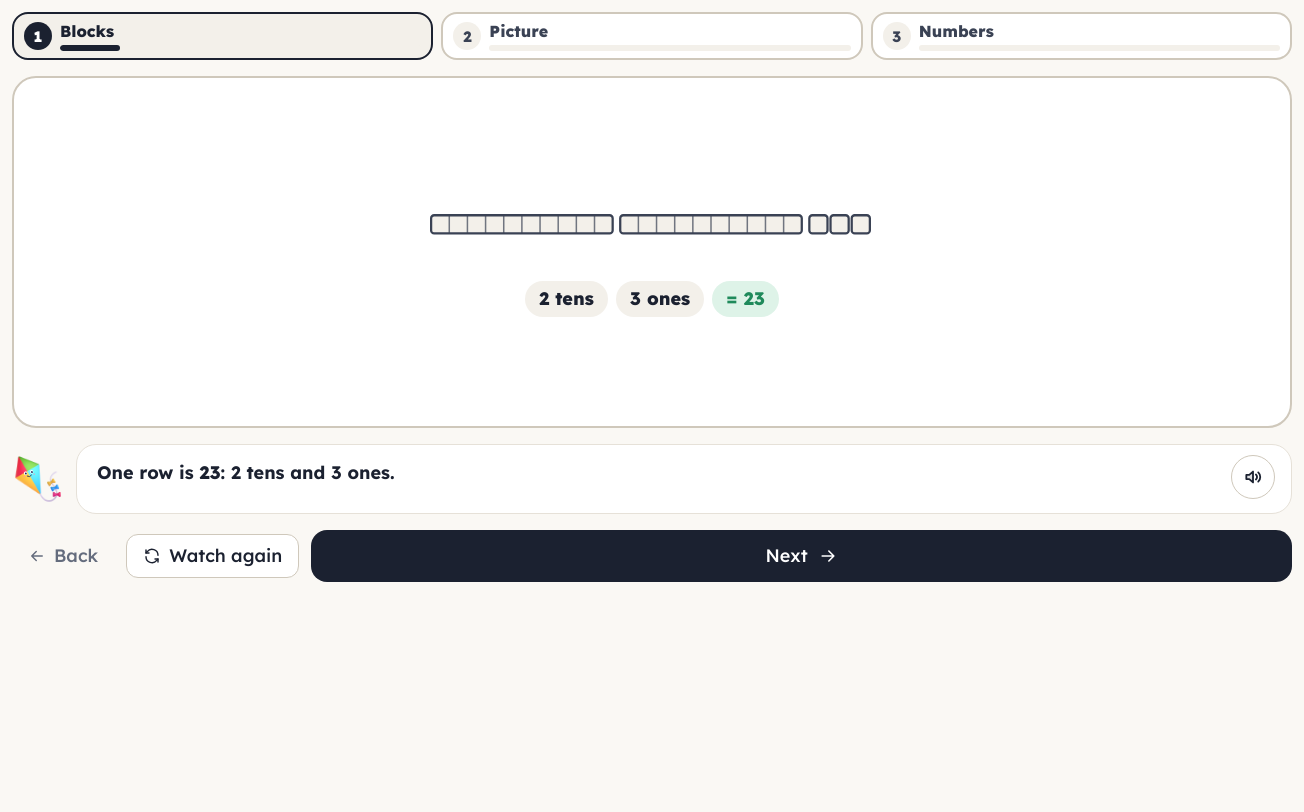
Scenario: long multiplication stage (ANIM-001 v2) › finishes the step with the last button and moves with the arrow keys
Step 1. Click the button "3 Numbers" → point(956, 31), box [871,12,1292,60]
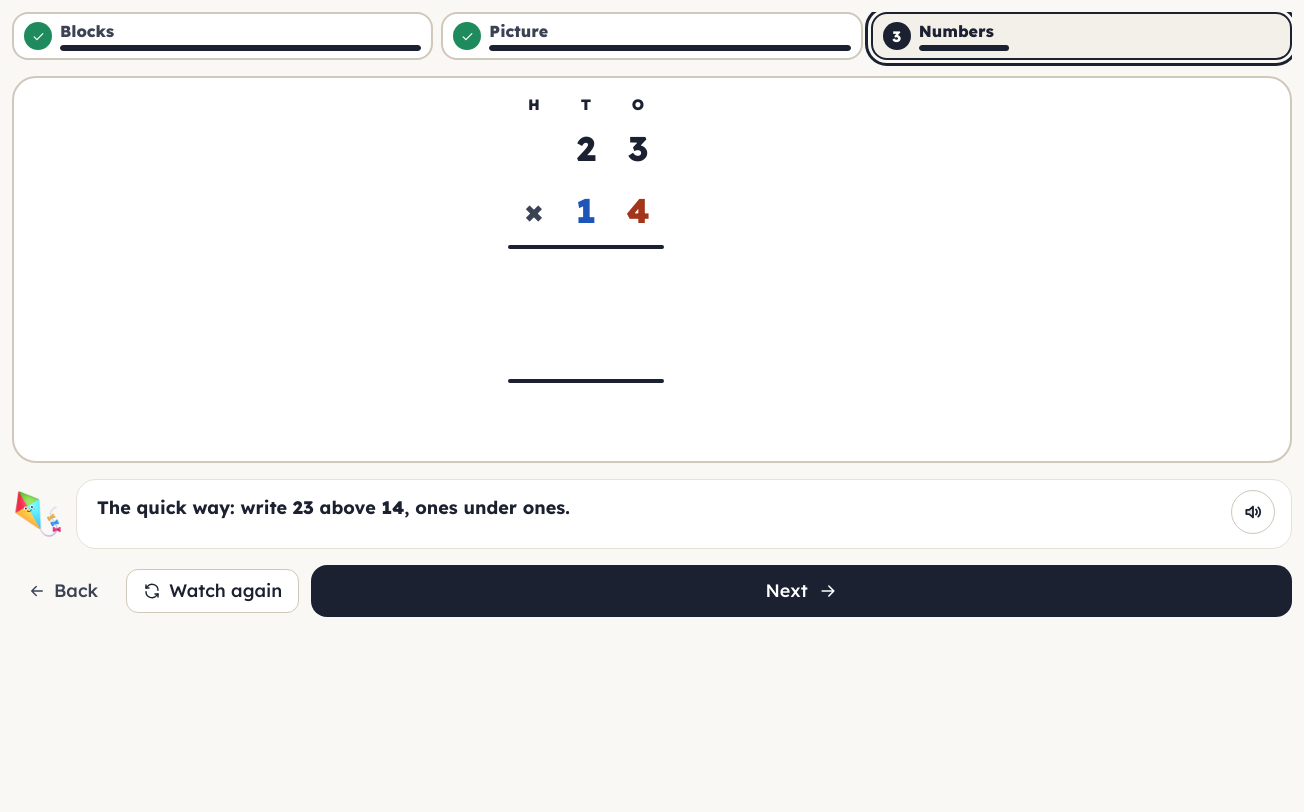
Step 2. Press Arrowright
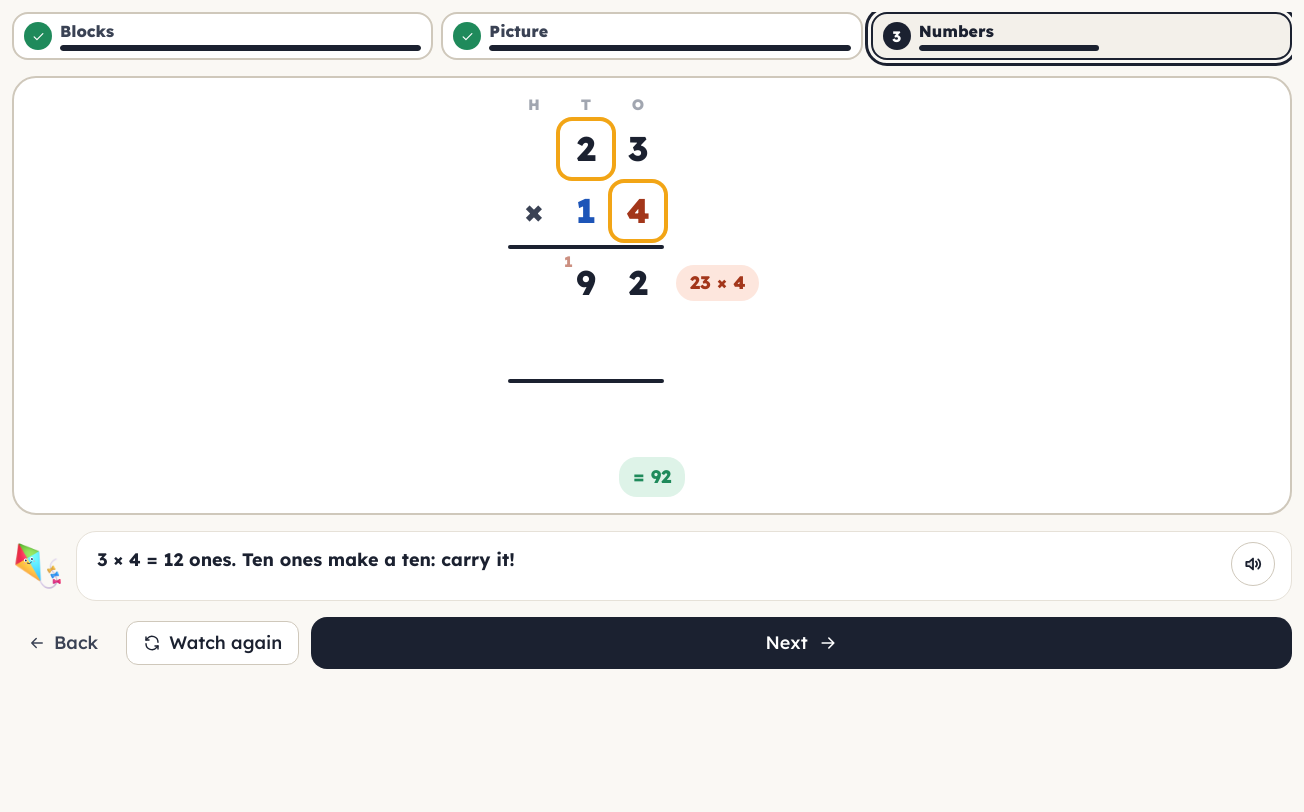
Now the text "3 × 4 = 12 ones. Ten ones make a ten: carry it!" is shown, box [97,548,515,571]
Step 3. Press Arrowright
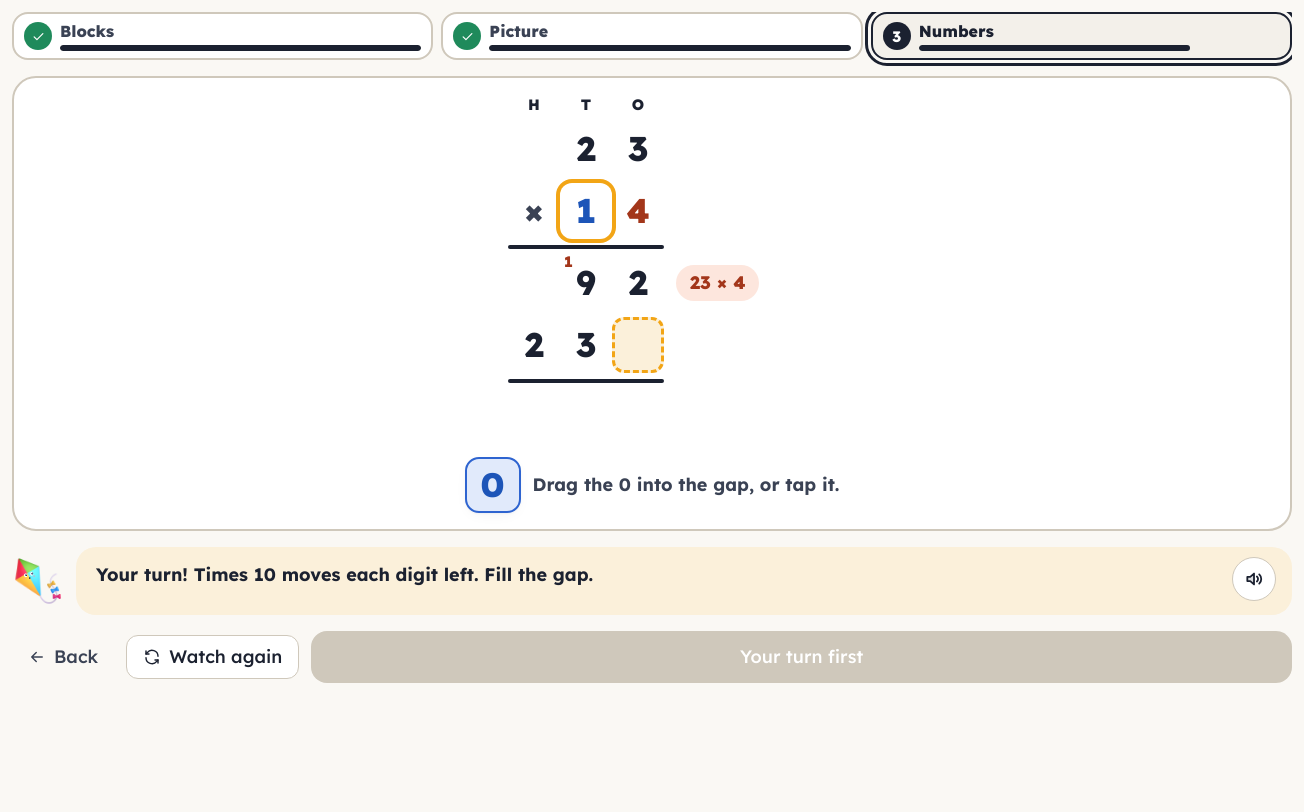
Step 4. Click the button named "Put a 0 in the ones place" → point(492, 485), box [464,457,520,513]
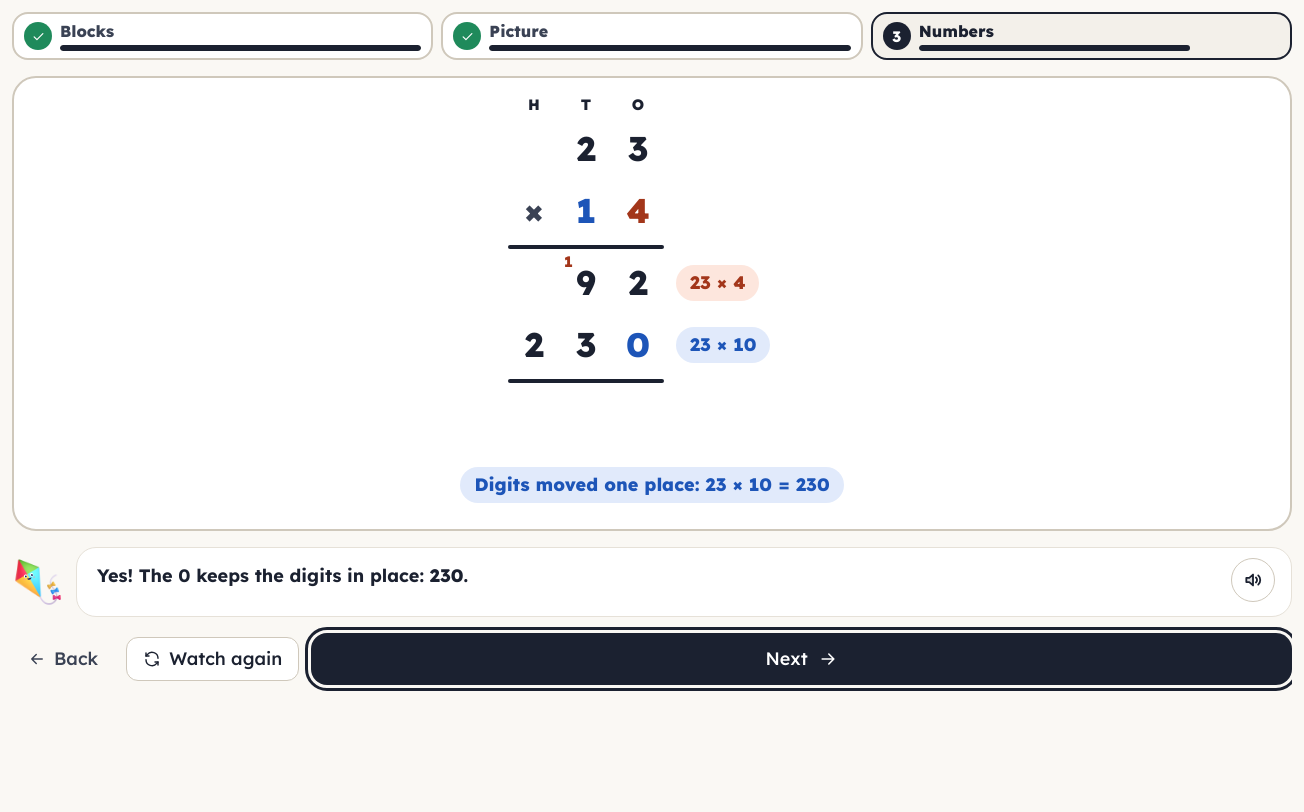
Note: The 0 tile is gone once placed, so focus moves to the way forward.
Step 5. Press Arrowright
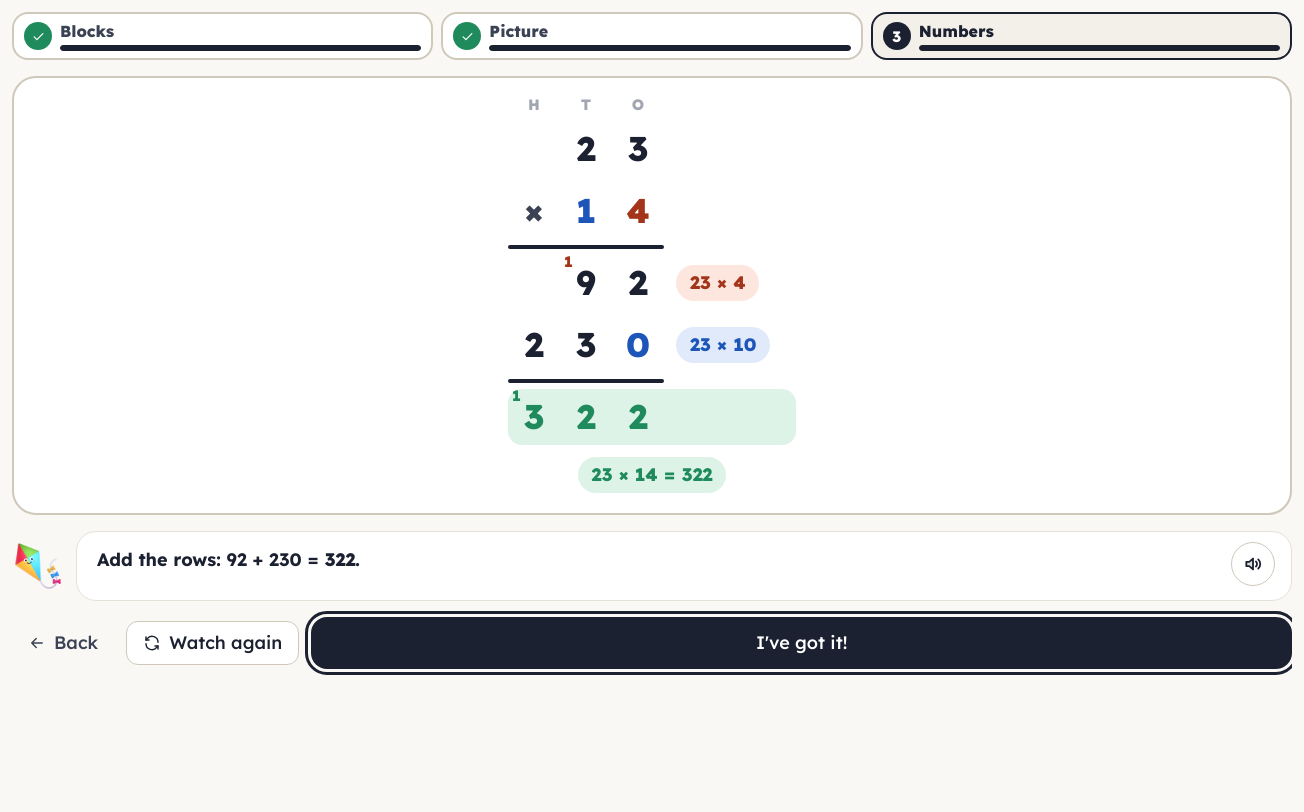
Now the element showing "Add the rows: 92 + 230 = 322." is shown, box [97,548,360,571]
Step 6. Click the button "I've got it!" → point(802, 643), box [311,617,1292,669]
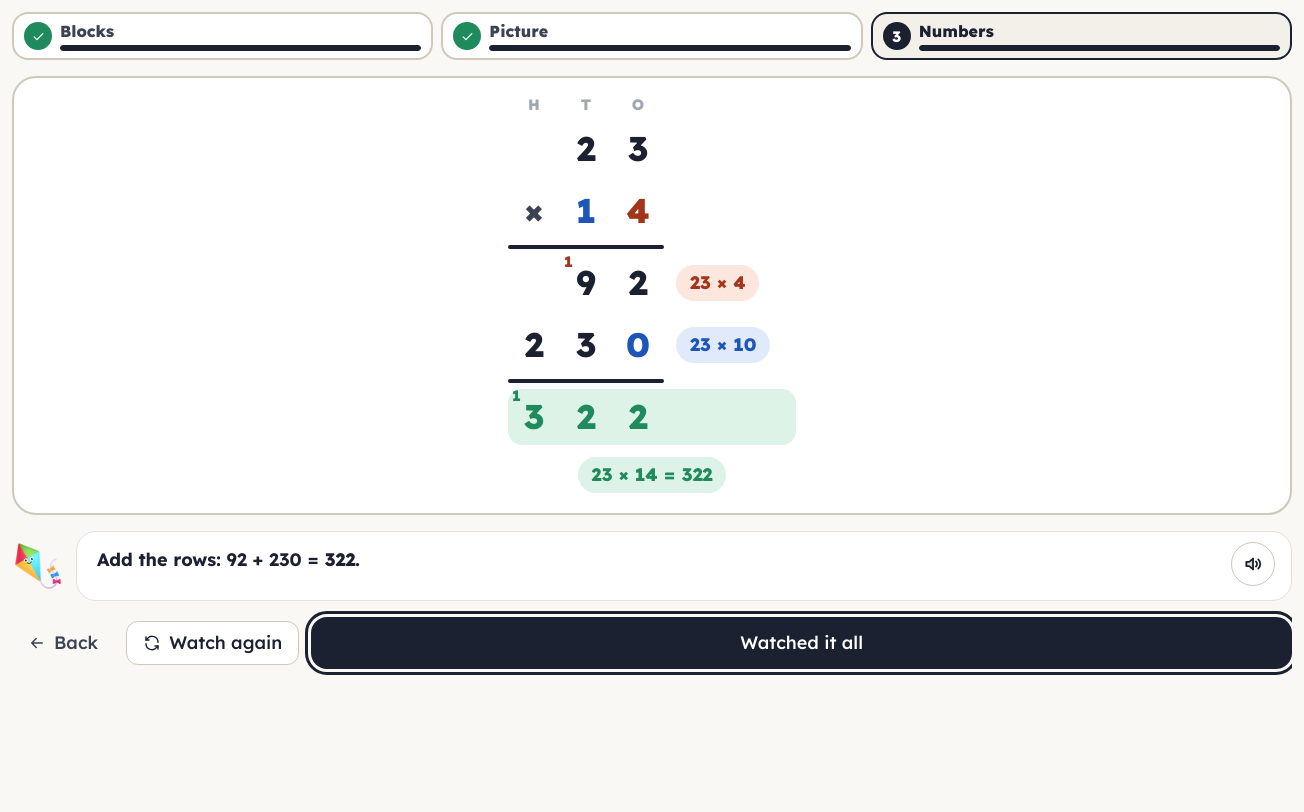
Now the button "Watched it all" is shown, box [311,617,1292,669]
